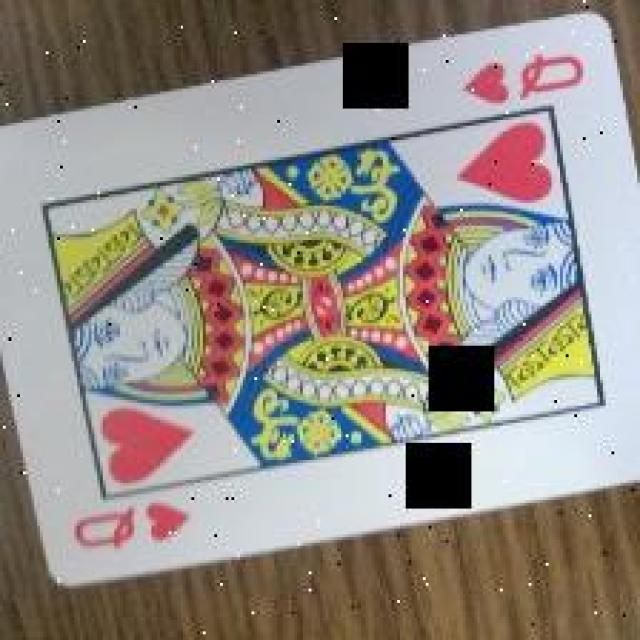Queen of hearts: (0, 13, 640, 582)
